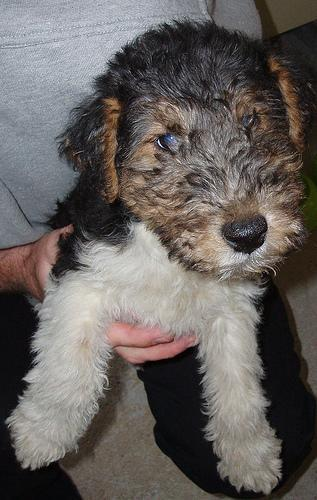wire-haired_fox_terrier: (8, 22, 309, 493)
